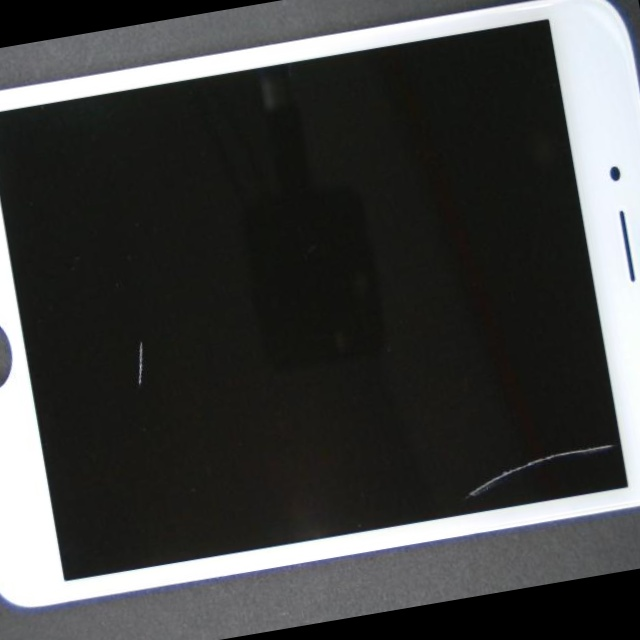scratch: (259, 203, 640, 623), (14, 129, 253, 527)
